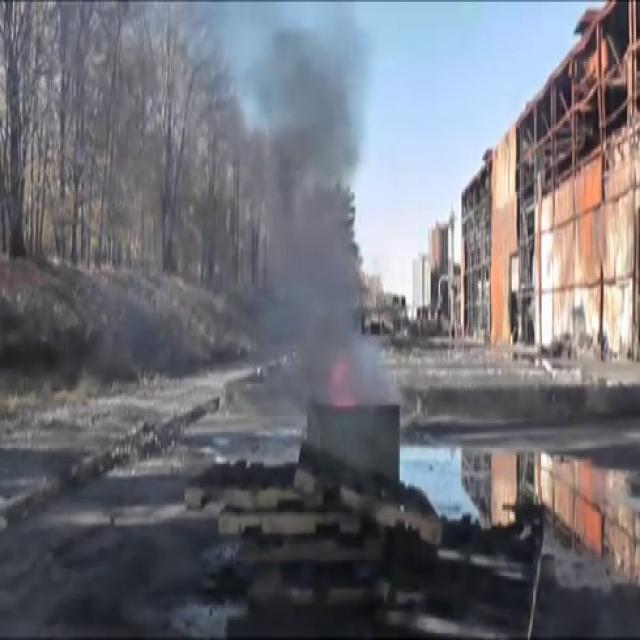Smoke: (200, 8, 392, 472)
